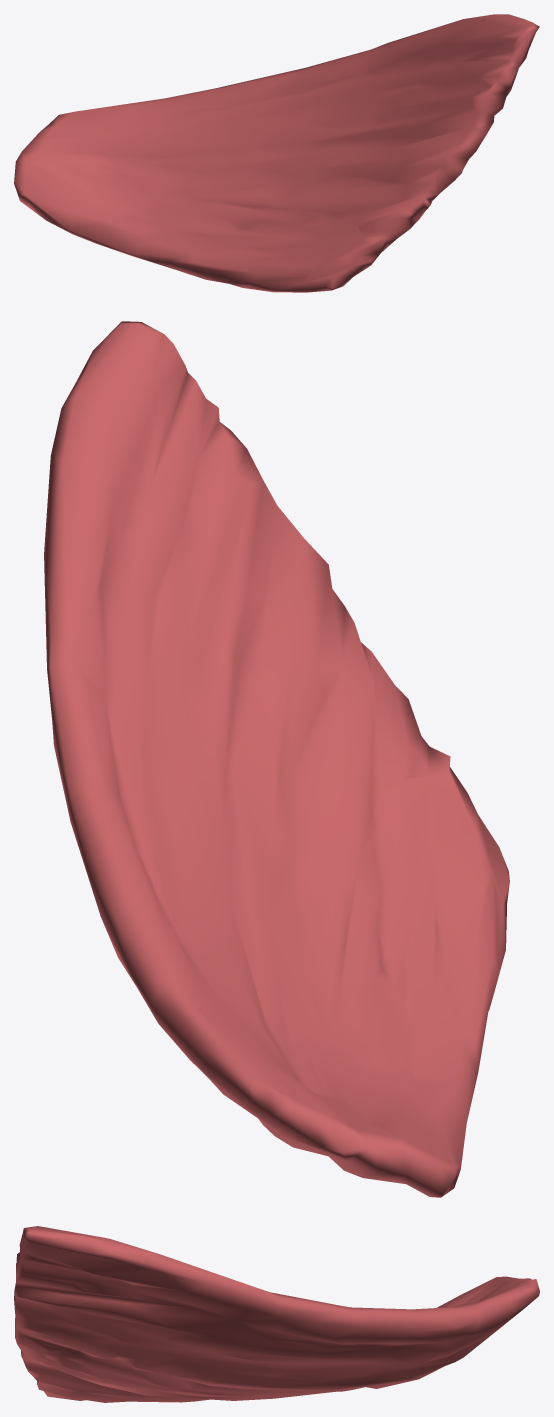
3 renders of one model, top to bottom at view 1: azimuth 30°, elevation 25°; view 2: azimuth 150°, elevation 25°; view 3: azimuth 270°, elevation 25°, orthographic. The views are drawn at different scales.
Visible parts, largest first — view 1: 左侧环甲肌直部; view 2: 左侧环甲肌直部; view 3: 左侧环甲肌直部.
Boxes of the visible parts, x1=… form: 左侧环甲肌直部: x1=14, y1=14, x2=539, y2=292; 左侧环甲肌直部: x1=44, y1=321, x2=509, y2=1197; 左侧环甲肌直部: x1=14, y1=1226, x2=539, y2=1402.
Bounding box in the file's own units: 0.0143 × 0.0101 × 0.0152.
